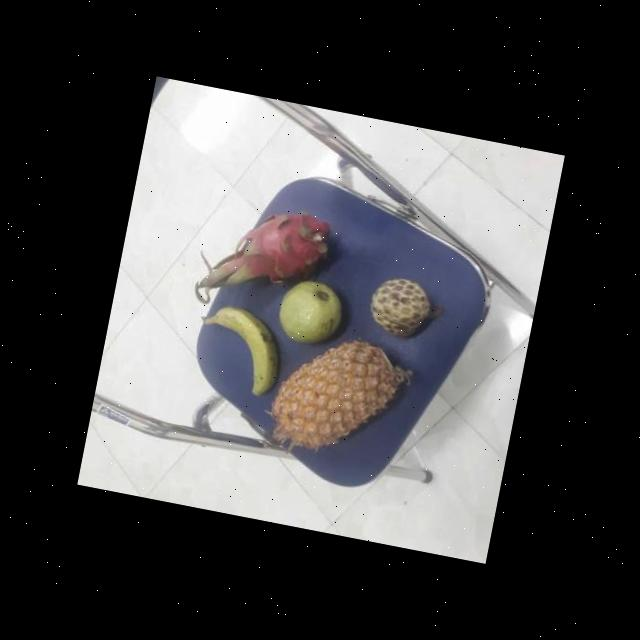Sakya fruit: (364, 274, 436, 347)
banana: (192, 304, 290, 402)
guava: (272, 276, 348, 352)
pineapple: (262, 328, 414, 468)
pitaya: (222, 202, 334, 310)
